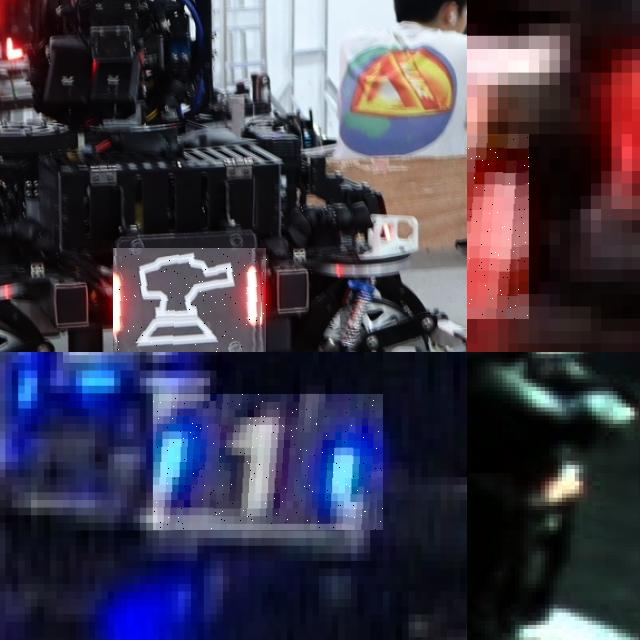B1: (153, 394, 383, 530)
R3: (467, 134, 529, 318)
Rs: (113, 248, 267, 352)
